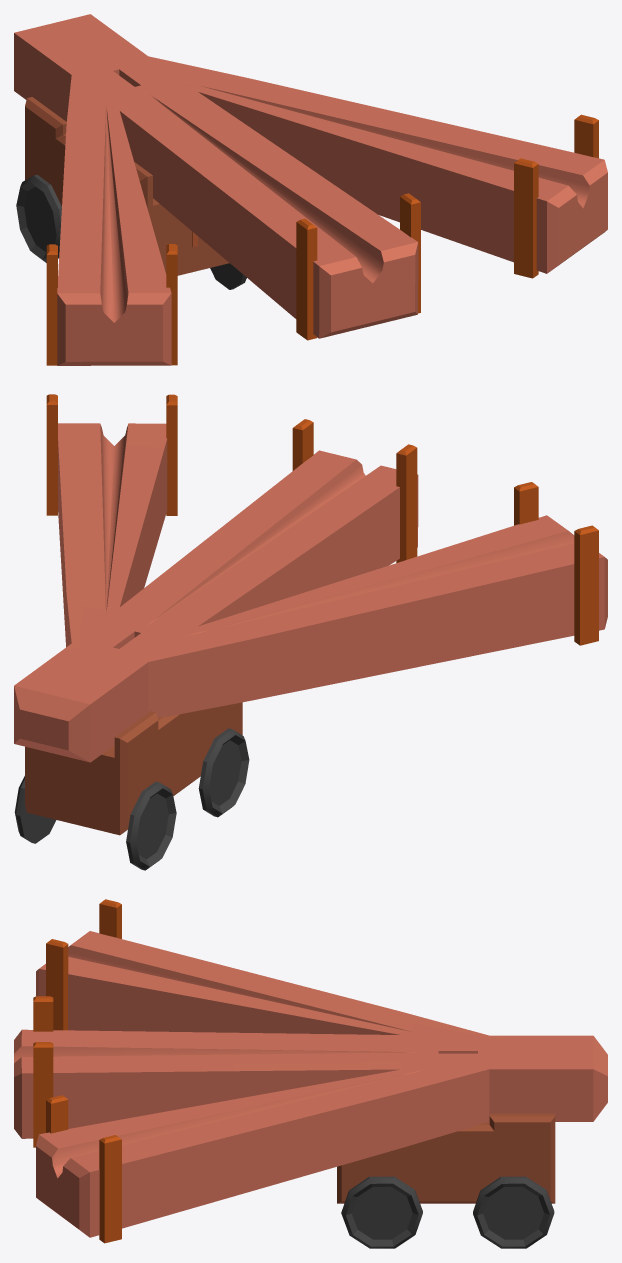
The model's file is ThreePointSlingshot_v1.fbx.
3 renders of one model, top to bottom at view 1: azimuth 30°, elevation 25°; view 2: azimuth 150°, elevation 25°; view 3: azimuth 270°, elevation 25°, orthographic. The views are drawn at different scales.
Parts seen in each view (by area): view 1: polySurface63; view 2: polySurface63; view 3: polySurface63.
Part boxes in pixels (<box>): polySurface63: <box>14,14,607,365</box>; polySurface63: <box>14,394,607,870</box>; polySurface63: <box>14,899,607,1248</box>.
Bounding box in the file's own units: 759 × 296 × 782.
